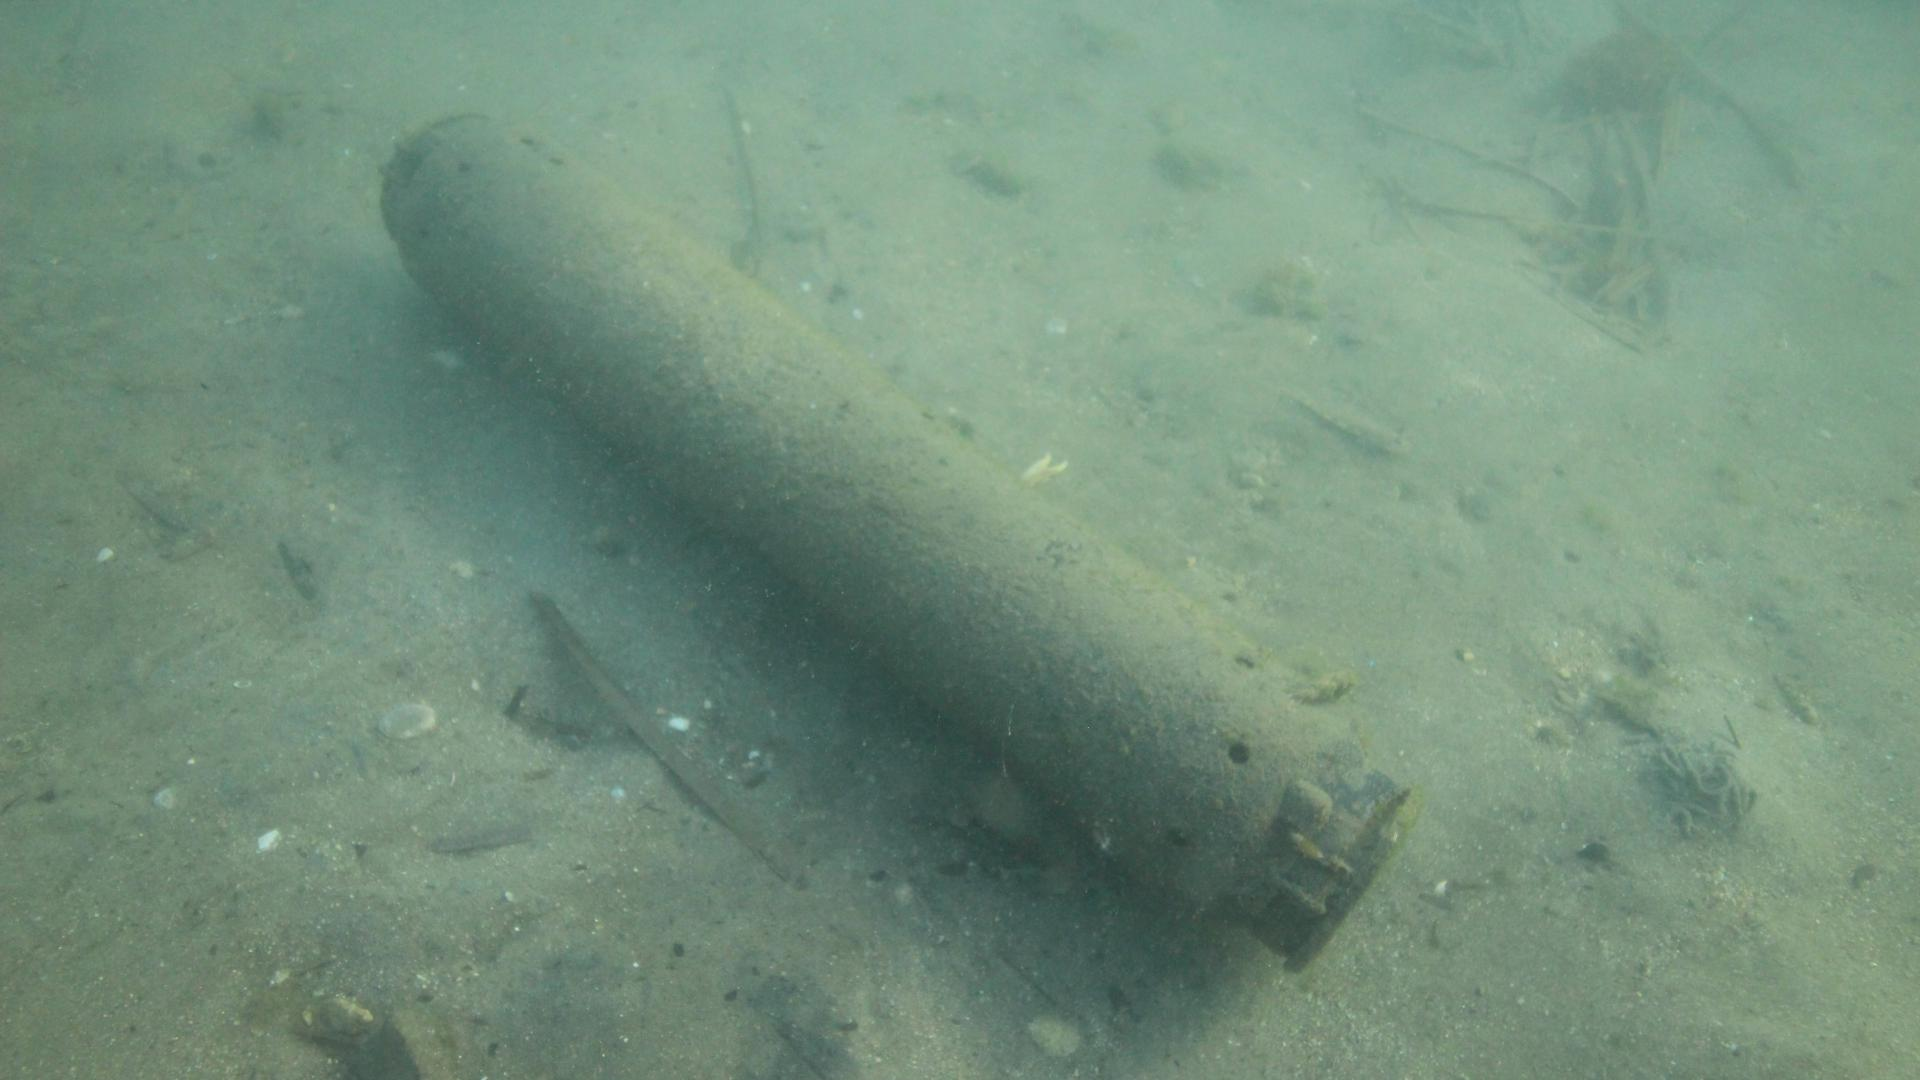eel fish trap: (377, 109, 1422, 975)
